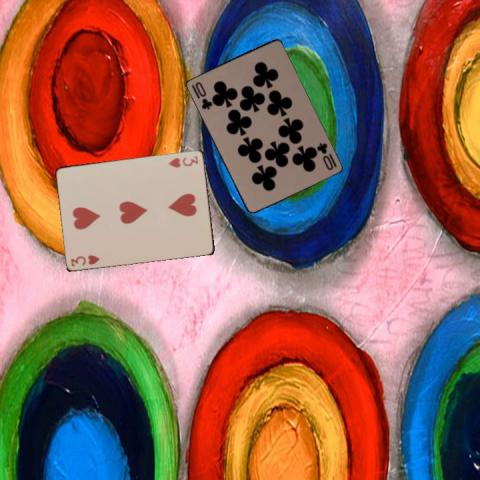10c: (188, 78, 213, 110), (313, 140, 338, 172)
3h: (166, 152, 199, 168), (68, 252, 101, 267)
